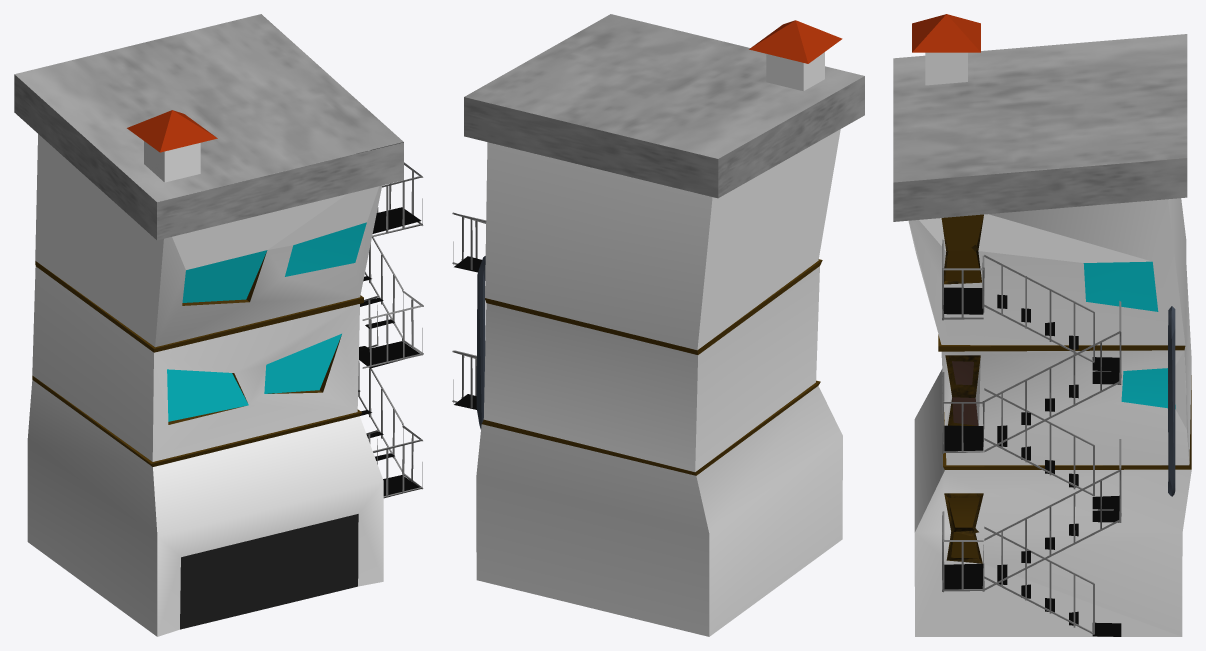
Rendered from PredioTorto-BrancoLOD1.fbx.
3 renders of one model, left to right at view 1: azimuth 30°, elevation 25°; view 2: azimuth 150°, elevation 25°; view 3: azimuth 270°, elevation 25°, orthographic. The views are drawn at different scales.
Visible parts, largest first — view 1: Predio3AndaresLOD1; view 2: Predio3AndaresLOD1; view 3: Predio3AndaresLOD1.
Part boxes in pixels (bbox=[...]): Predio3AndaresLOD1: bbox=[14, 14, 423, 636]; Predio3AndaresLOD1: bbox=[452, 14, 864, 636]; Predio3AndaresLOD1: bbox=[893, 14, 1191, 636].
Size of the model in its own units: 1035 by 1727 by 892.
